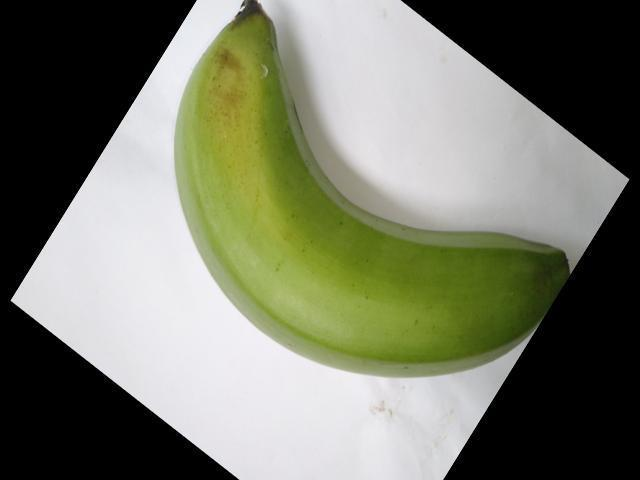freshunripe: (164, 0, 567, 384)
